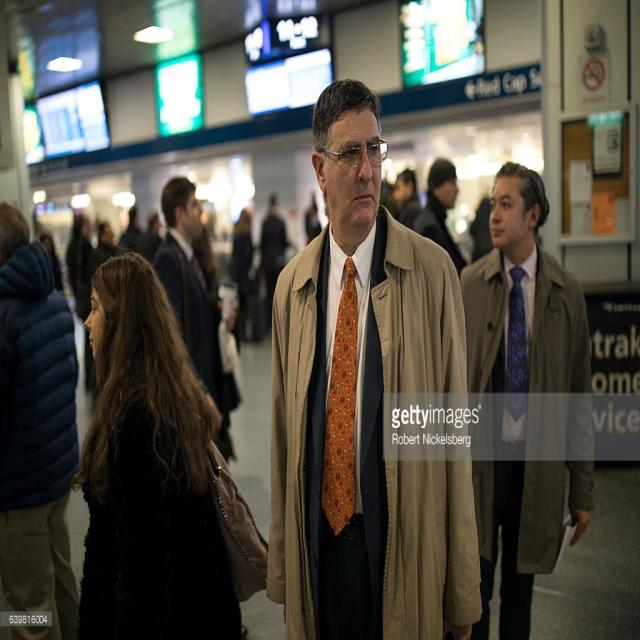body: (260, 72, 488, 639), (70, 248, 282, 639), (459, 159, 599, 639), (0, 200, 84, 640), (150, 174, 242, 469), (64, 210, 110, 398), (412, 156, 469, 281), (259, 192, 289, 338), (231, 209, 253, 344), (190, 217, 220, 310), (465, 187, 496, 264), (89, 222, 125, 280), (393, 166, 423, 230), (133, 210, 165, 266), (38, 231, 65, 294), (117, 204, 147, 257), (302, 190, 322, 244)
